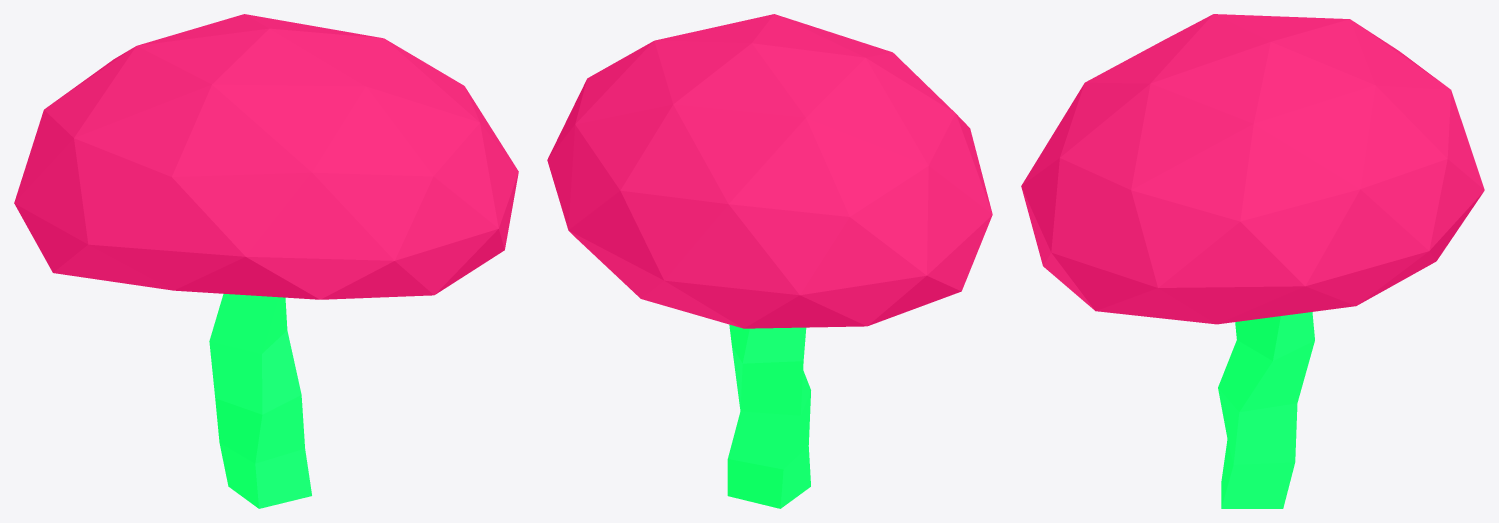
The model's file is TreePsy.glb.
3 views of the same model, side by side, from view 1: azimuth 30°, elevation 25°; view 2: azimuth 150°, elevation 25°; view 3: azimuth 270°, elevation 25° (orthographic).
Parts seen in each view (by area): view 1: Icosphere, Trunk.003; view 2: Icosphere, Trunk.003; view 3: Icosphere, Trunk.003.
Boxes of the visible parts, x1,y1,x2,y2 form: Icosphere: (14,14,518,299); Trunk.003: (209,293,311,508); Icosphere: (547,14,992,328); Trunk.003: (727,324,810,508); Icosphere: (1021,14,1484,324); Trunk.003: (1218,312,1314,508).
Bounding box in the file's own units: 7.37 × 7.81 × 7.17.
